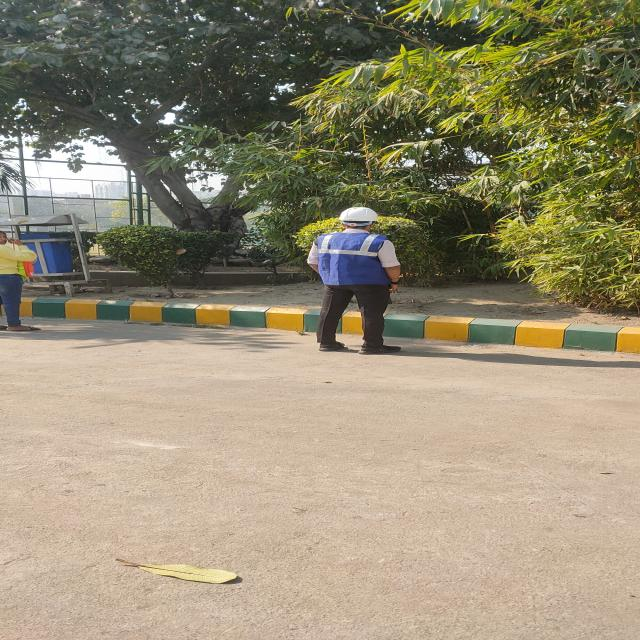safe: (308, 207, 400, 354)
